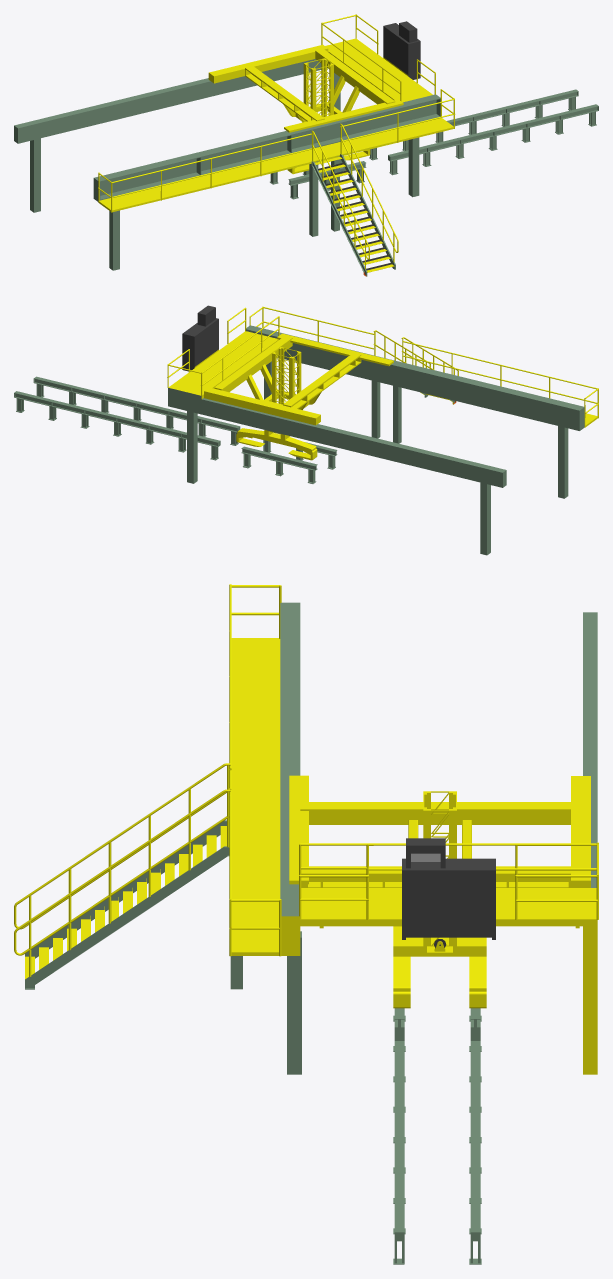
The model's file is ChargingBillet.obj.
3 views of the same model, one above another, from view 1: azimuth 30°, elevation 25°; view 2: azimuth 150°, elevation 25°; view 3: azimuth 270°, elevation 25° (orthographic). The views are drawn at different scales.
Parts seen in each view (by area): view 1: Charging_Billet; view 2: Charging_Billet; view 3: Charging_Billet.
Part boxes in pixels (box(x1,y1,x2,y2)): Charging_Billet: box(14, 14, 598, 276); Charging_Billet: box(14, 305, 598, 555); Charging_Billet: box(14, 584, 598, 1264).
Size of the model in its own units: 349 by 85.89 by 177.
